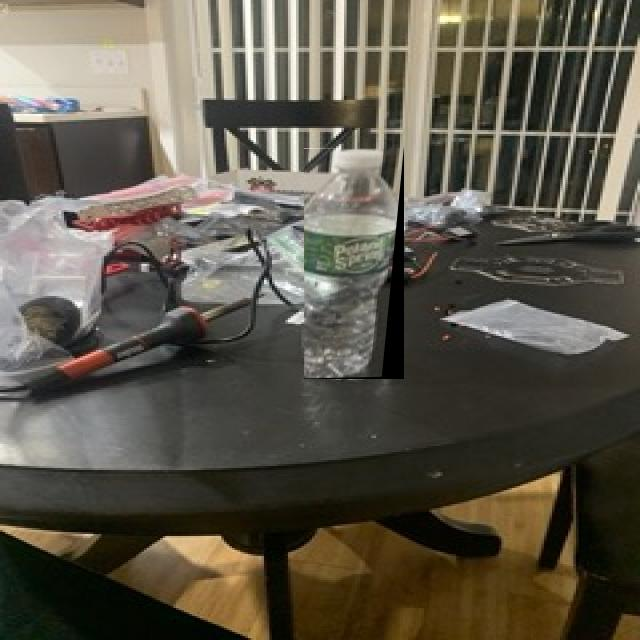water_bottle: (304, 148, 404, 379)
